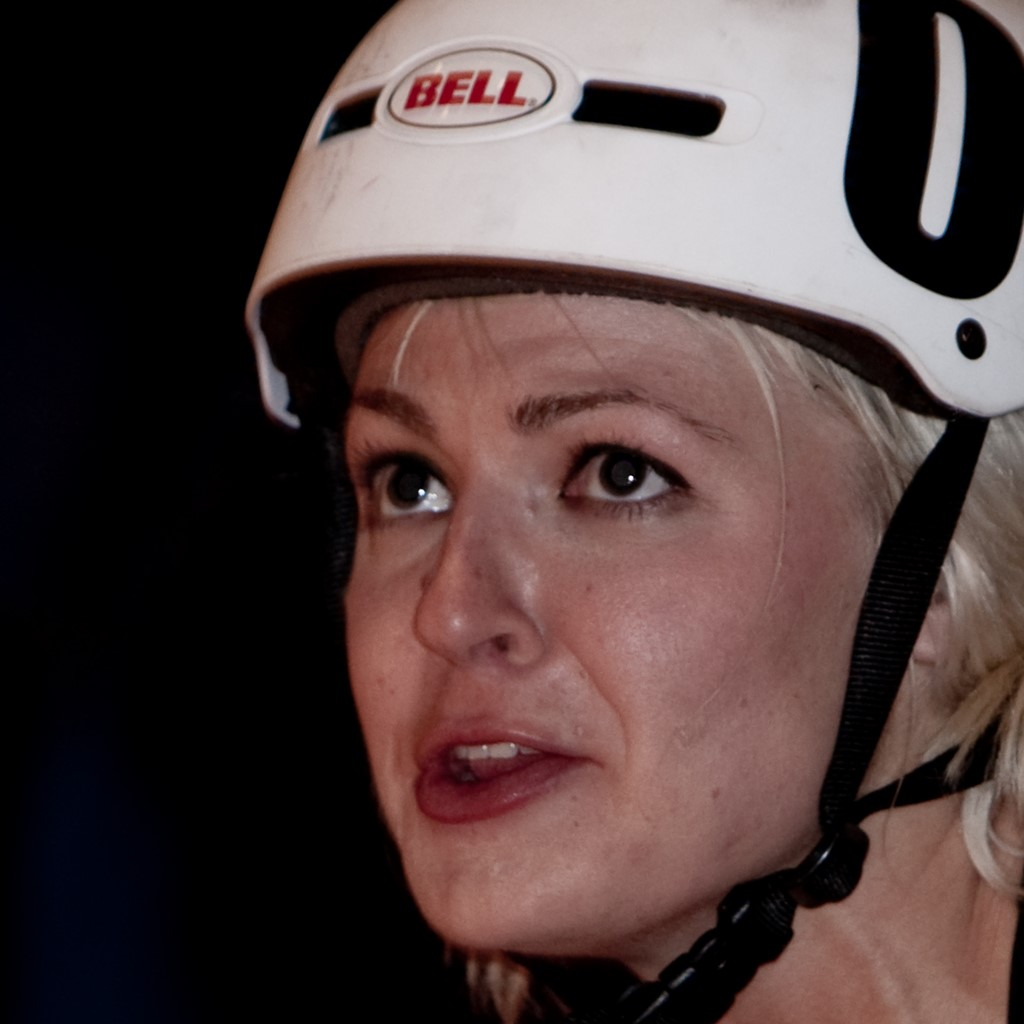sin_mascara: (324, 259, 932, 944)
